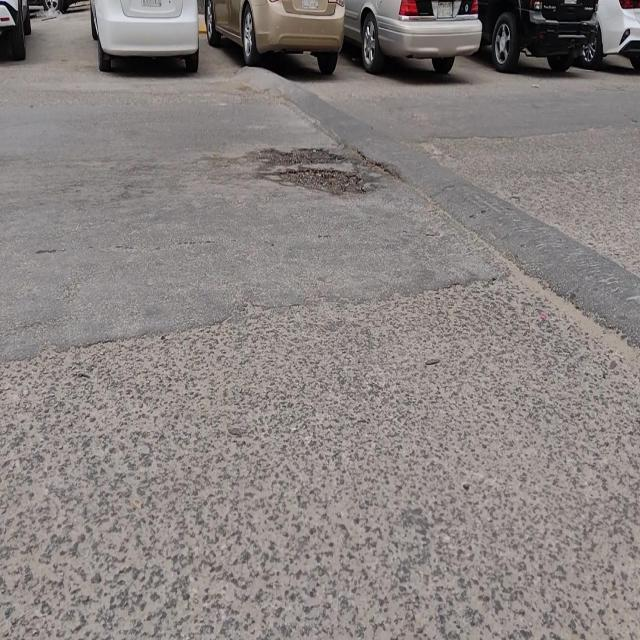Potholes: (252, 144, 361, 191)
